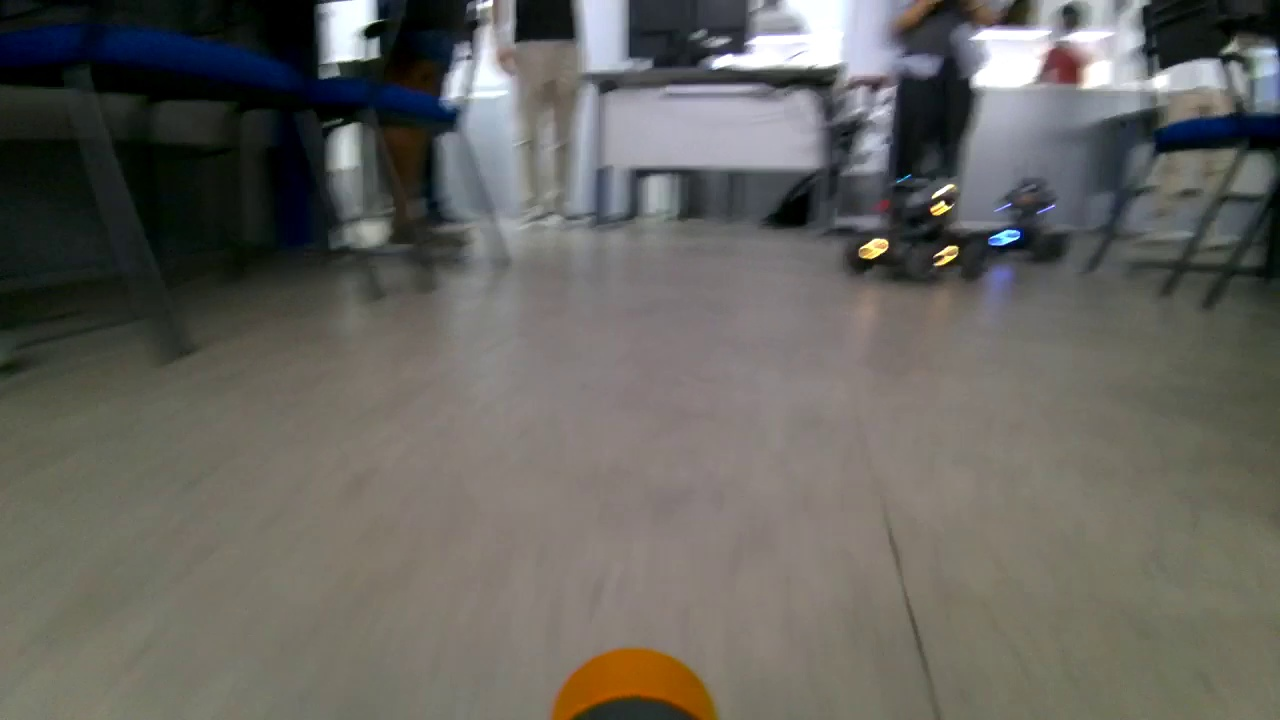robot: (850, 146, 990, 294), (982, 162, 1076, 270)
